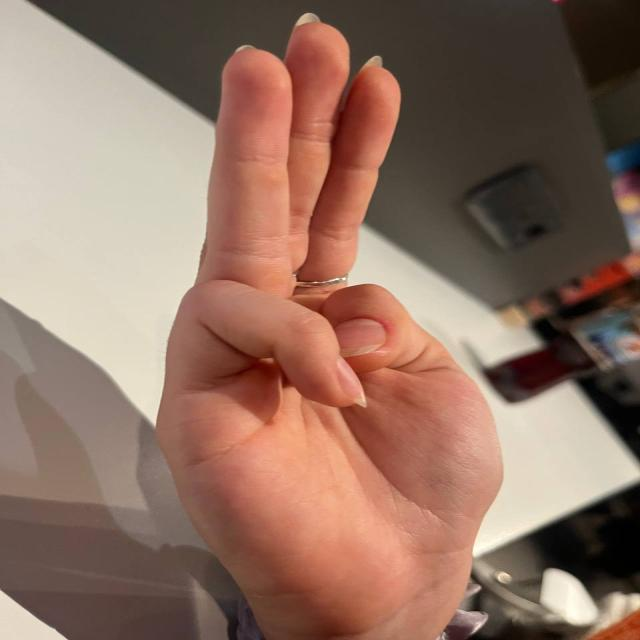sh: (136, 34, 526, 558)
